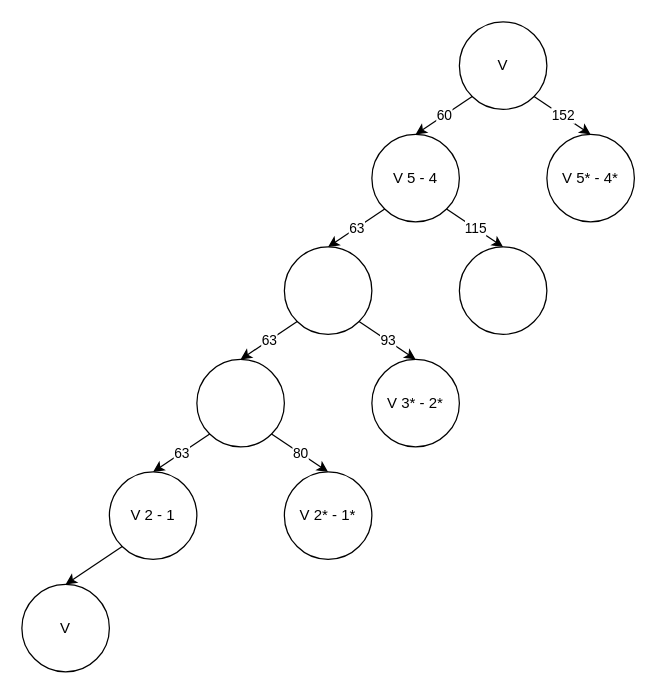
This 656x694 diagram has some shape labels left out. Here are the shapes that lost their labels. From the top down, the centre of each, then its label:
At pixel 327 290: "V 1 - 5".
At pixel 502 290: "V 1* - 5*".
At pixel 240 402: "V 3 - 2".
